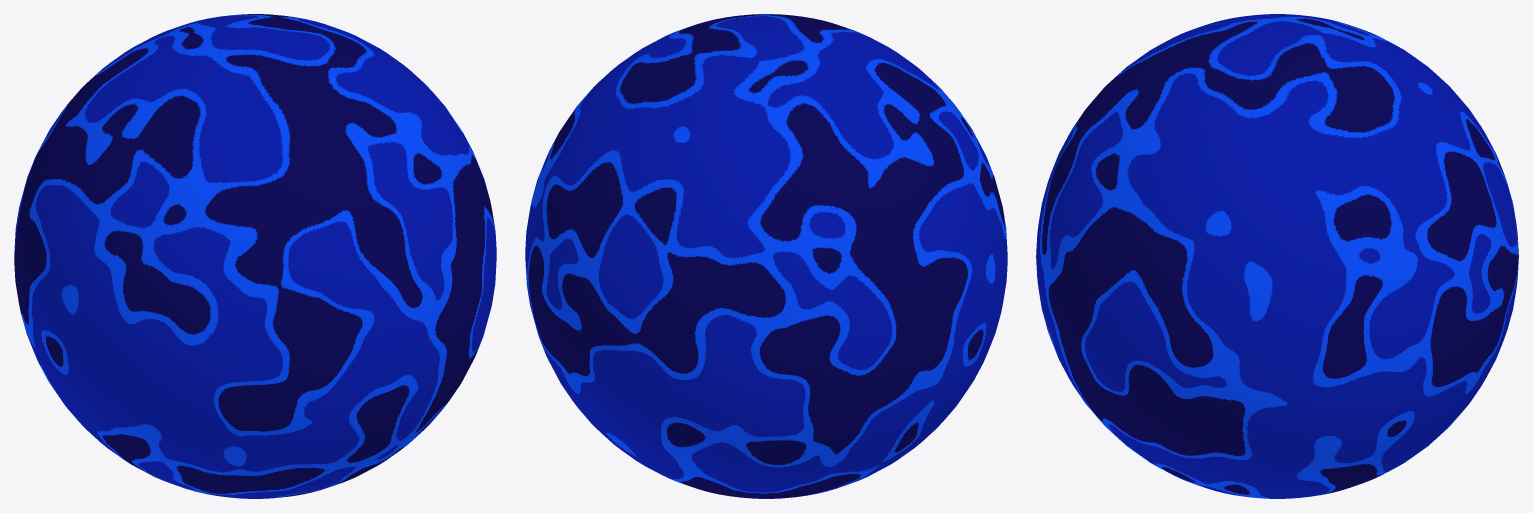
Rendered from lucarioballglb.glb.
3 views of the same model, side by side, from view 1: azimuth 30°, elevation 25°; view 2: azimuth 150°, elevation 25°; view 3: azimuth 270°, elevation 25° (orthographic).
Visible parts, largest first — view 1: Object_5; view 2: Object_5; view 3: Object_5.
Part boxes in pixels (x1=…): Object_5: x1=14, y1=14, x2=496, y2=498; Object_5: x1=525, y1=14, x2=1007, y2=498; Object_5: x1=1036, y1=14, x2=1518, y2=498.
Size of the model in its own units: 0.0408 by 0.0413 by 0.0408.
Materials: 1 (1 with a texture image).
